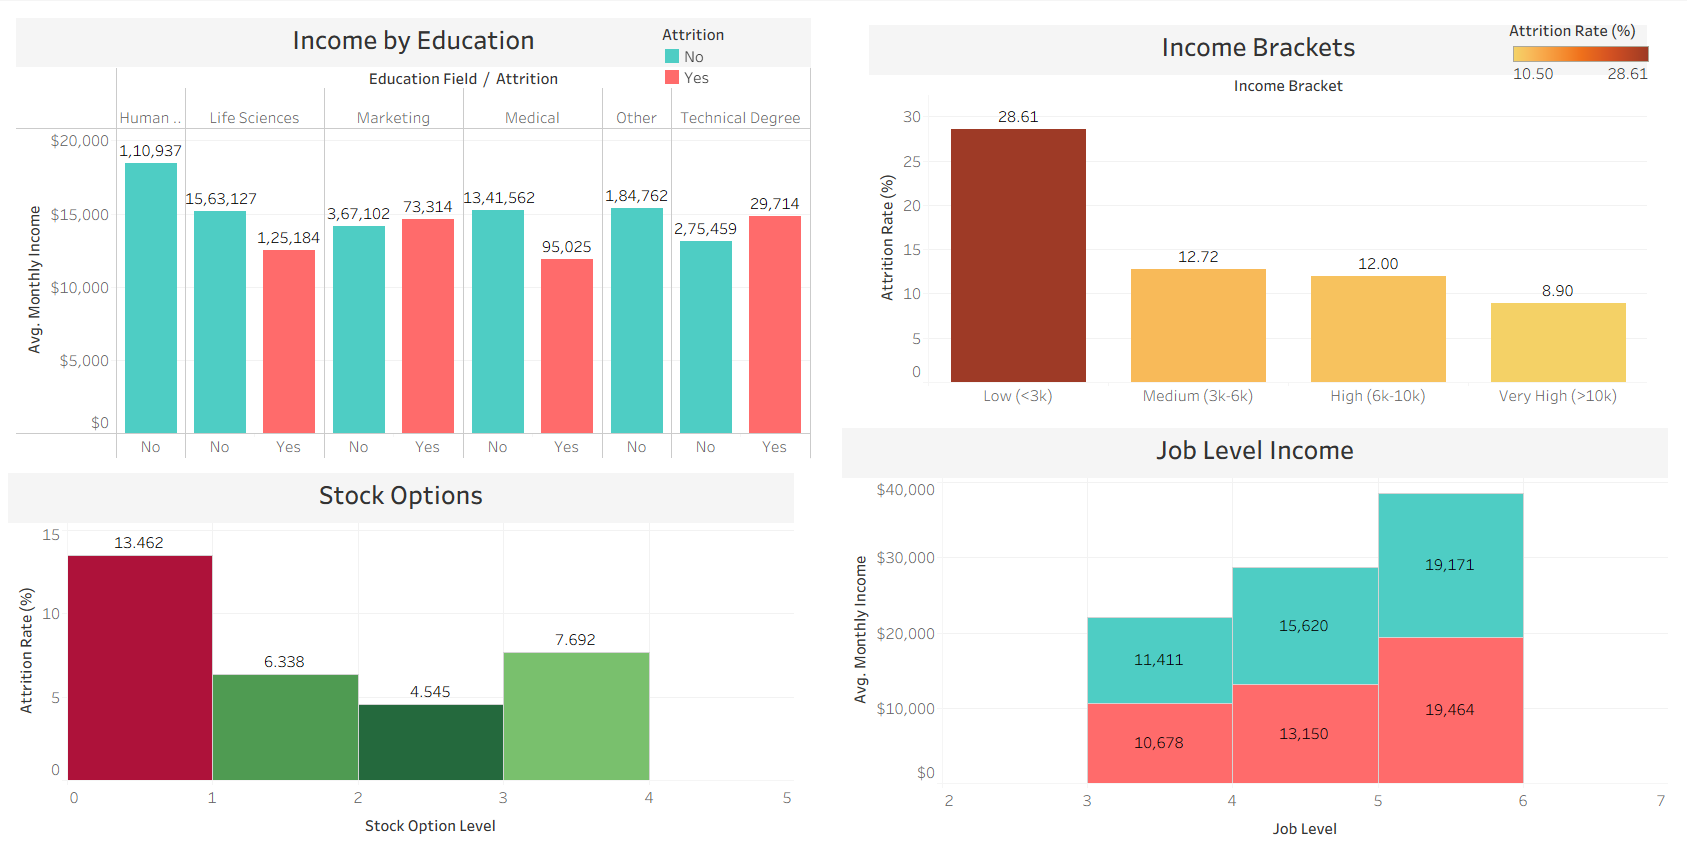

This screenshot's page, from the dashboard's own definition file:
{"tool":"tableau","page":{"name":" Compensation Analysis","canvas":[1000,1000],"units":"permille","ordinal":0},"visuals":[{"type":"worksheet","title":"Income by Education","mark":"Automatic","rows":["MonthlyIncome"],"cols":["EducationField","Attrition"],"box":[11.5,20,465.9,518.2]},{"type":"legend","title":"Income Brackets","param":"[federated.0ozdfbu1gxy1kc16nmb0w1wolmpg].[usr:Calculation_19502924076507136:qk]","box":[886.4,22.3,84.2,103.4]},{"type":"legend","title":"Income by Education","param":"[federated.0ozdfbu1gxy1kc16nmb0w1wolmpg].[none:Attrition:nk]","box":[390.3,27,84.2,75.2]},{"type":"worksheet","title":"Income Brackets","mark":"Automatic","rows":["Calculation_19502924076507136"],"cols":["Calculation_19502924076707841"],"box":[511.2,28.2,456.2,466.5]},{"type":"worksheet","title":"Job Level Income","mark":"Bar","rows":["MonthlyIncome"],"cols":["JobLevel"],"box":[495.5,501.8,484.1,491.2]},{"type":"worksheet","title":"Stock Options","mark":"Bar","rows":["Calculation_19502924076507136"],"cols":["StockOptionLevel"],"box":[7.2,554.6,460.6,434.8]}]}

Visuals, with their boxes on the dashboard's canvas, which has no fixed pixel size, in thousandths of its width and height (x1, y1, x2, y2). These are canvas units, not pixel positions in the 1687x843 screenshot, which may show the page scaled, cropped or inside an application window:
"Income by Education" worksheet: 12 20 477 538
"Income Brackets" legend: 886 22 971 126
"Income by Education" legend: 390 27 474 102
"Income Brackets" worksheet: 511 28 967 495
"Job Level Income" worksheet (Bar marks): 496 502 980 993
"Stock Options" worksheet (Bar marks): 7 555 468 989
